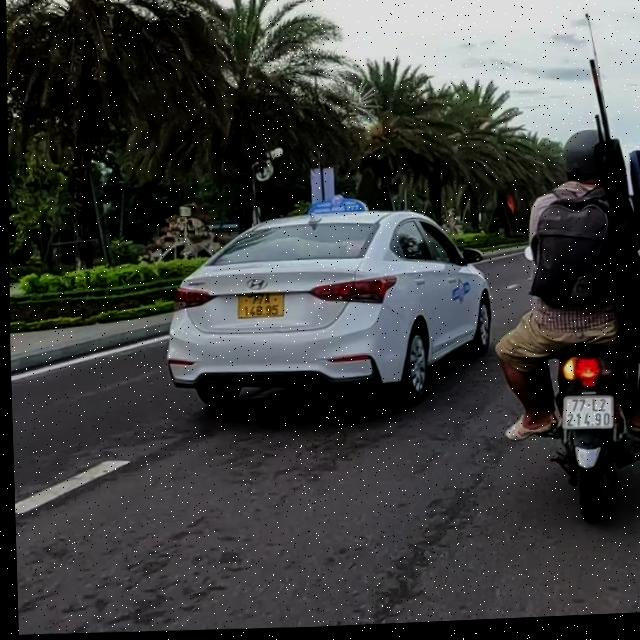car: (160, 205, 495, 429)
motorcycle: (542, 331, 640, 530)
plate: (556, 387, 622, 438), (228, 283, 289, 324)
